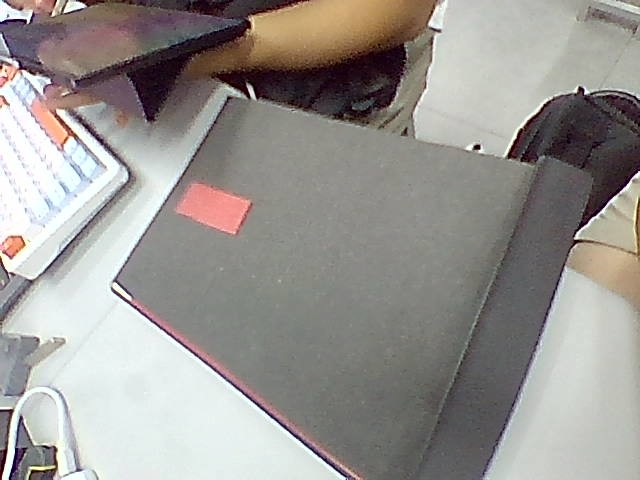card: (176, 182, 251, 234)
